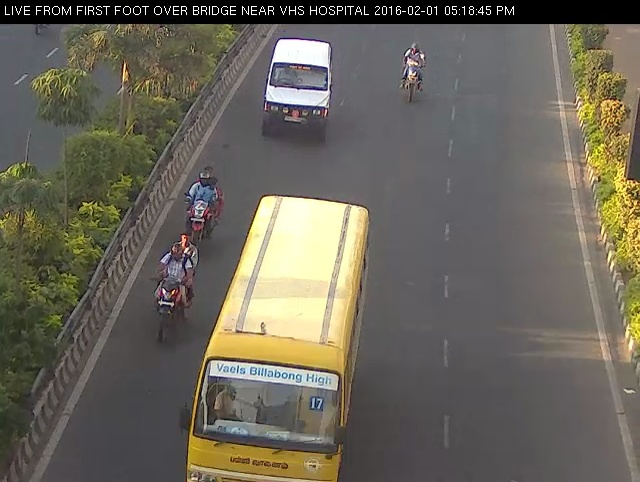Bus: (179, 178, 374, 482)
Car: (258, 31, 341, 153)
Person: (148, 232, 199, 346), (175, 164, 232, 250), (395, 38, 433, 108)
